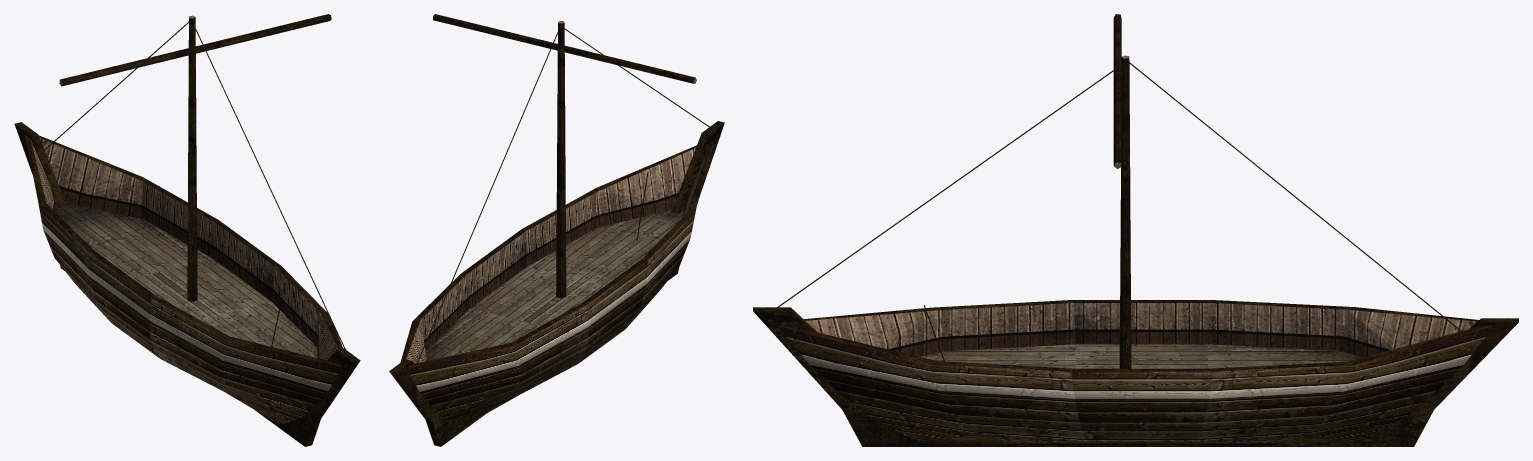
The model's file is celt_skiff.dae.
3 renders of one model, left to right at view 1: azimuth 30°, elevation 25°; view 2: azimuth 150°, elevation 25°; view 3: azimuth 270°, elevation 25°, orthographic. The views are drawn at different scales.
Visible parts, largest first — view 1: celt_skiff; view 2: celt_skiff; view 3: celt_skiff.
Boxes of the visible parts, bbox=[...] form: celt_skiff: bbox=[14, 14, 360, 446]; celt_skiff: bbox=[389, 14, 724, 446]; celt_skiff: bbox=[753, 14, 1518, 446].
Bounding box in the file's own units: 11.35 × 13.86 × 24.8.
